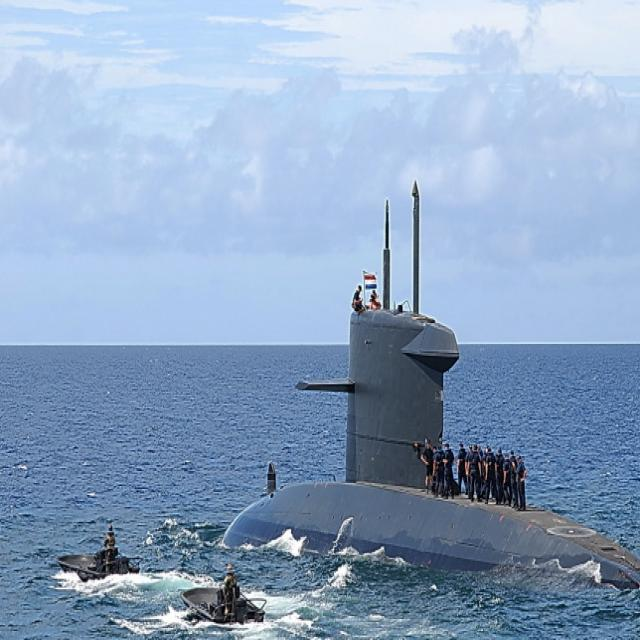submarine: (222, 167, 640, 611)
